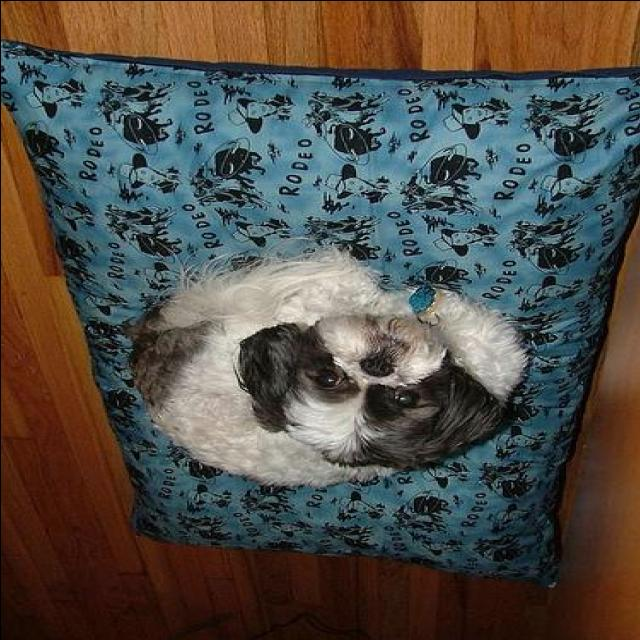shih_tzu: (125, 243, 528, 489)
